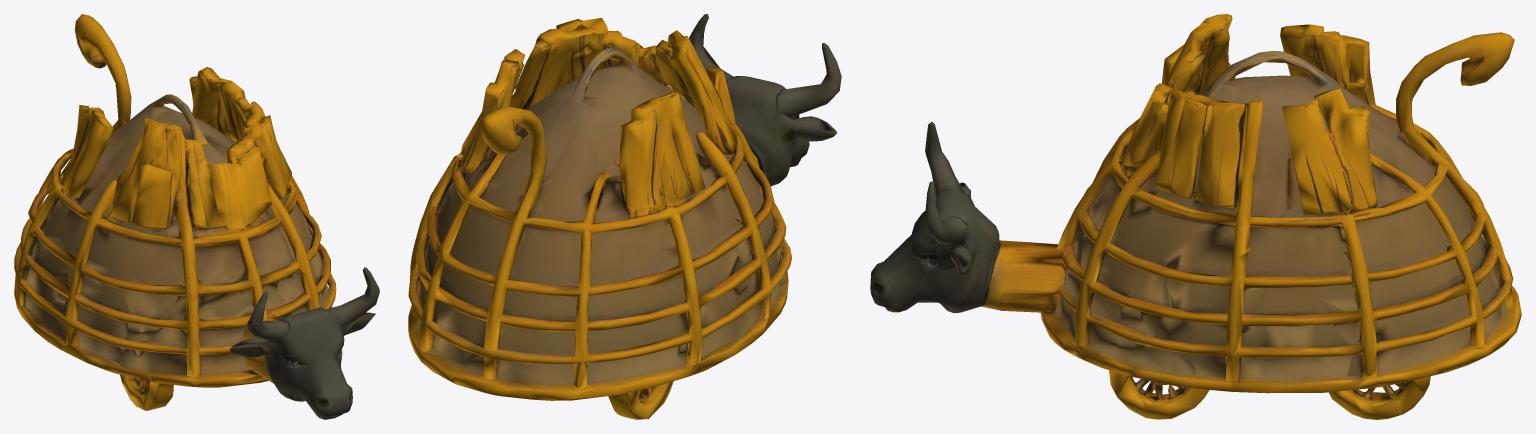
The picture shows the model from 3 angles, left to right: view 1: azimuth 30°, elevation 25°; view 2: azimuth 150°, elevation 25°; view 3: azimuth 270°, elevation 25°; orthographic projection. The views are drawn at different scales.
Parts seen in each view (by area): view 1: tripo_node_3e2ca4d9-2028-4905-8291-bb5c4870b4ac; view 2: tripo_node_3e2ca4d9-2028-4905-8291-bb5c4870b4ac; view 3: tripo_node_3e2ca4d9-2028-4905-8291-bb5c4870b4ac.
Part boxes in pixels (x1,y1,x2,y2): tripo_node_3e2ca4d9-2028-4905-8291-bb5c4870b4ac: [14, 14, 379, 419]; tripo_node_3e2ca4d9-2028-4905-8291-bb5c4870b4ac: [408, 14, 841, 419]; tripo_node_3e2ca4d9-2028-4905-8291-bb5c4870b4ac: [870, 14, 1521, 419].
Size of the model in its own units: 0.5611 by 0.5658 by 0.9984.
Materials: 1 (1 with a texture image).
